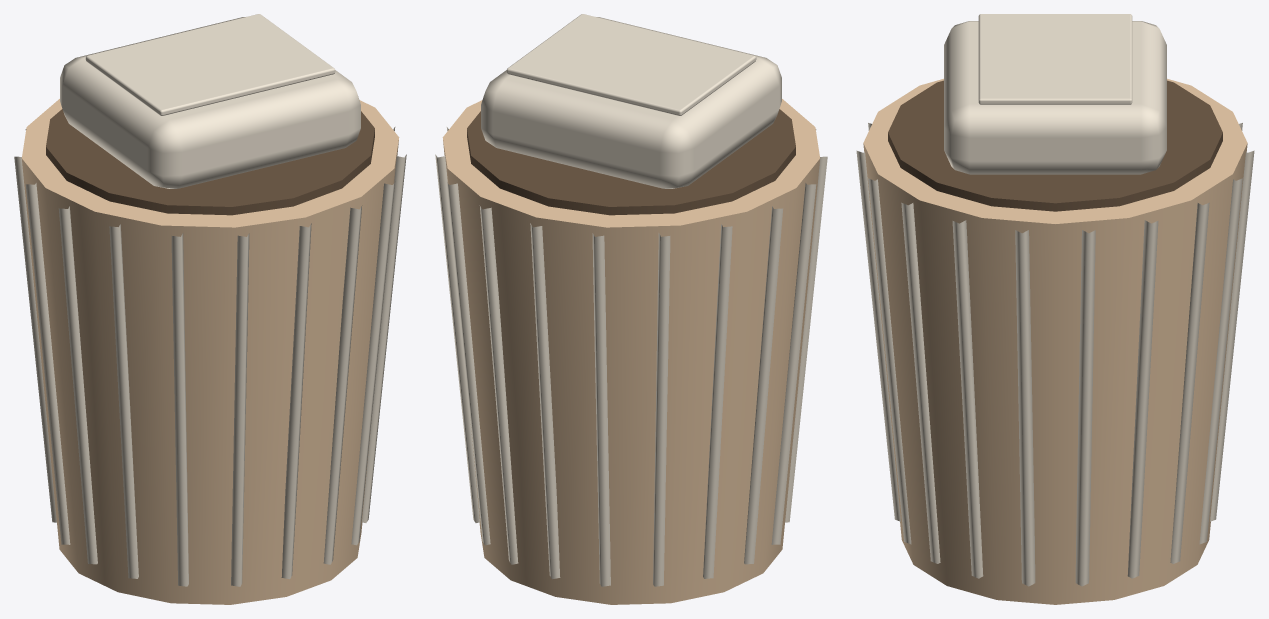
Rendered from bathroom_ref_basket.glb.
3 renders of one model, left to right at view 1: azimuth 30°, elevation 25°; view 2: azimuth 150°, elevation 25°; view 3: azimuth 270°, elevation 25°, orthographic.
Size of the model in its own units: 0.5103 by 0.6945 by 0.5179.
